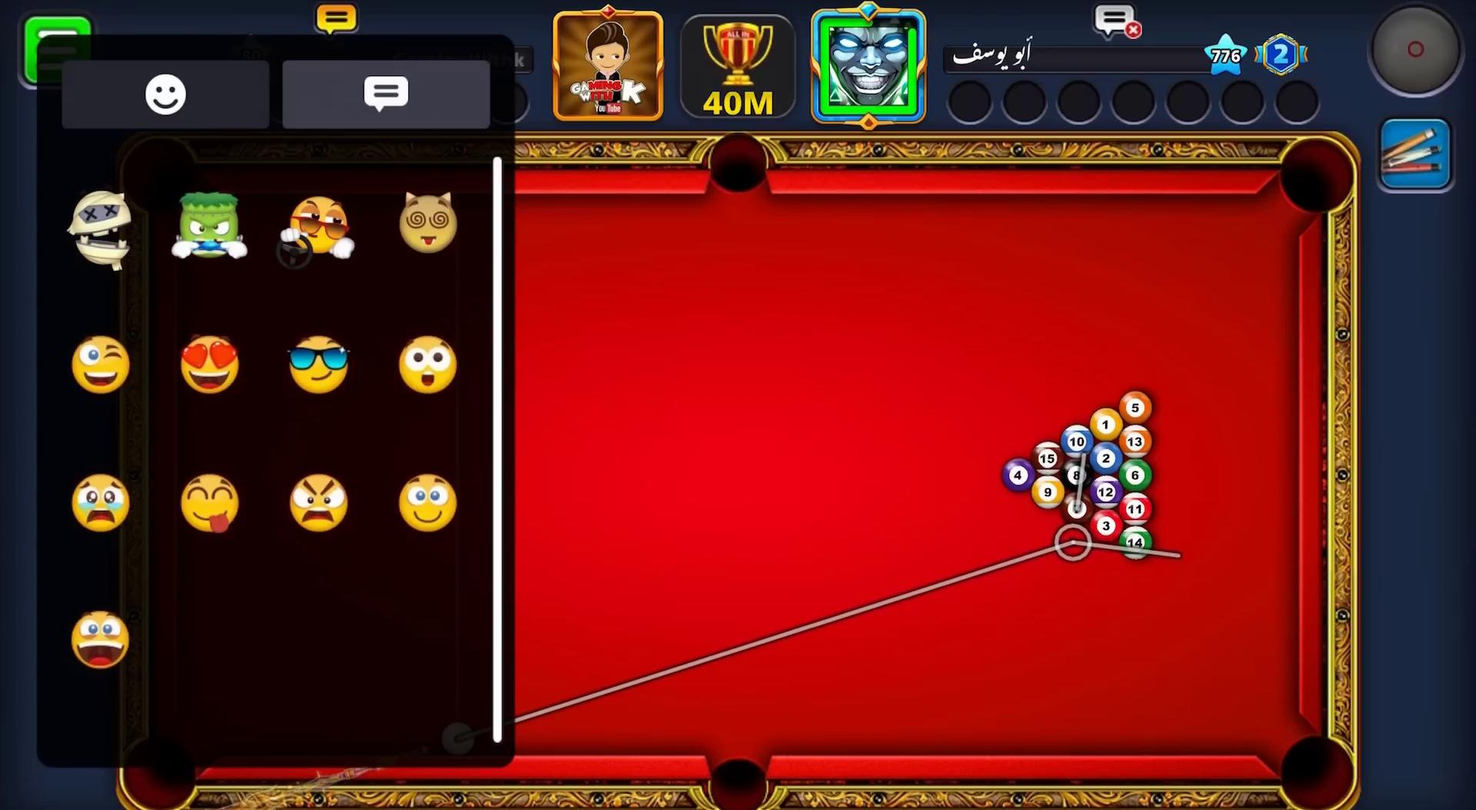Ball: (1118, 389, 1154, 425), (1061, 489, 1095, 526), (1119, 526, 1153, 562), (1091, 475, 1124, 511), (1118, 426, 1154, 459), (1032, 475, 1065, 509), (1120, 493, 1153, 526), (1121, 457, 1153, 491), (1003, 458, 1035, 491), (1033, 441, 1065, 474), (1061, 424, 1093, 457), (1091, 408, 1122, 442), (1092, 509, 1122, 543), (1091, 443, 1123, 472), (1061, 460, 1091, 490)
Guideline: (518, 535, 1182, 726), (1055, 525, 1094, 564), (1072, 454, 1089, 514)
Hole: (1283, 136, 1357, 221), (1280, 733, 1357, 810), (704, 136, 772, 197), (708, 757, 769, 810)
Spin: (1367, 5, 1467, 101)
White: (439, 722, 478, 756)
